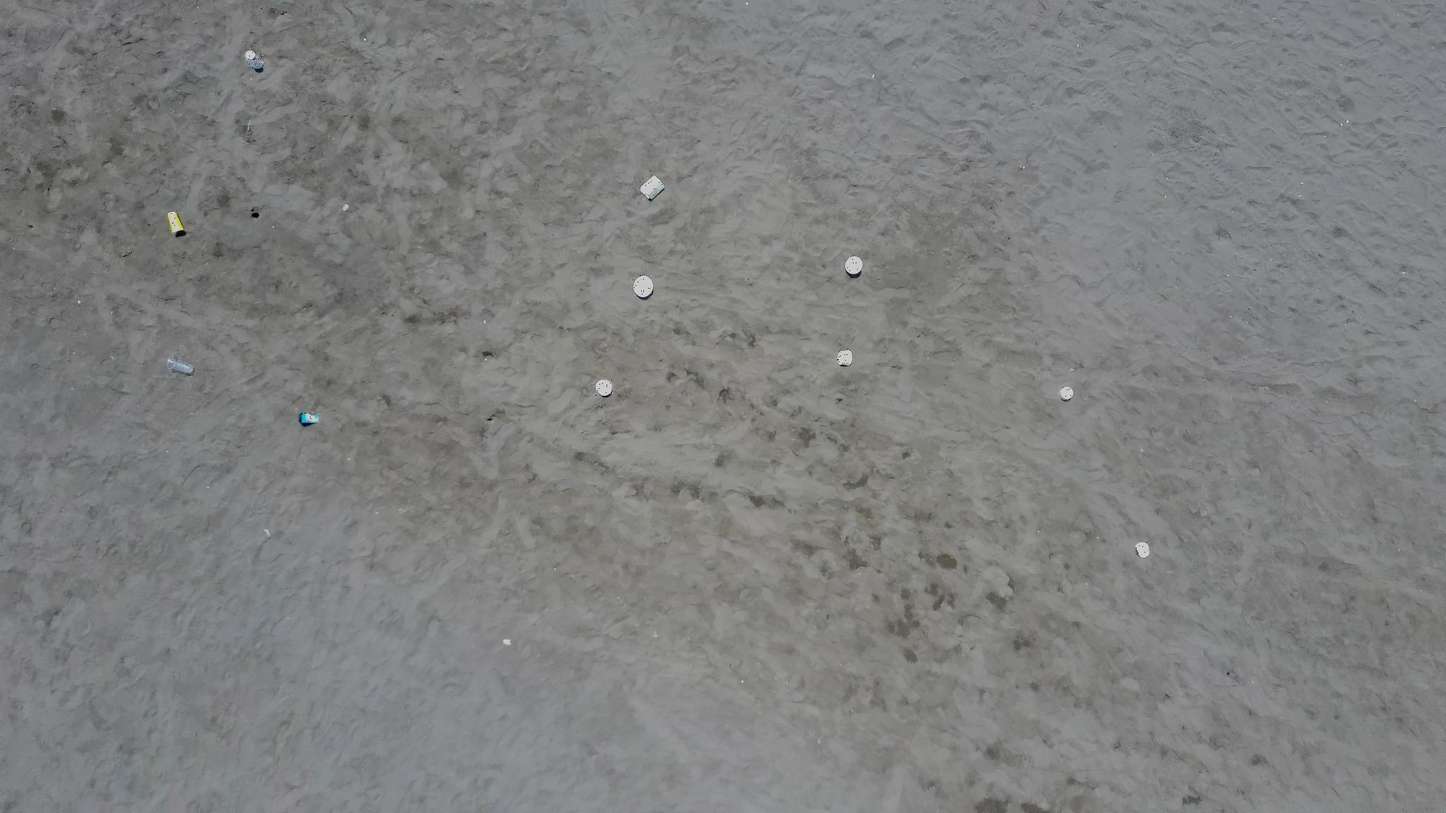Garbage: (639, 176, 663, 200), (166, 357, 193, 375), (167, 211, 185, 236), (634, 275, 652, 299), (244, 49, 263, 71), (844, 255, 863, 277), (594, 379, 613, 397), (298, 412, 318, 426), (836, 350, 851, 366), (1058, 386, 1073, 401), (1135, 541, 1147, 557), (249, 207, 260, 218), (263, 528, 270, 538), (503, 638, 511, 644), (342, 205, 348, 211)
